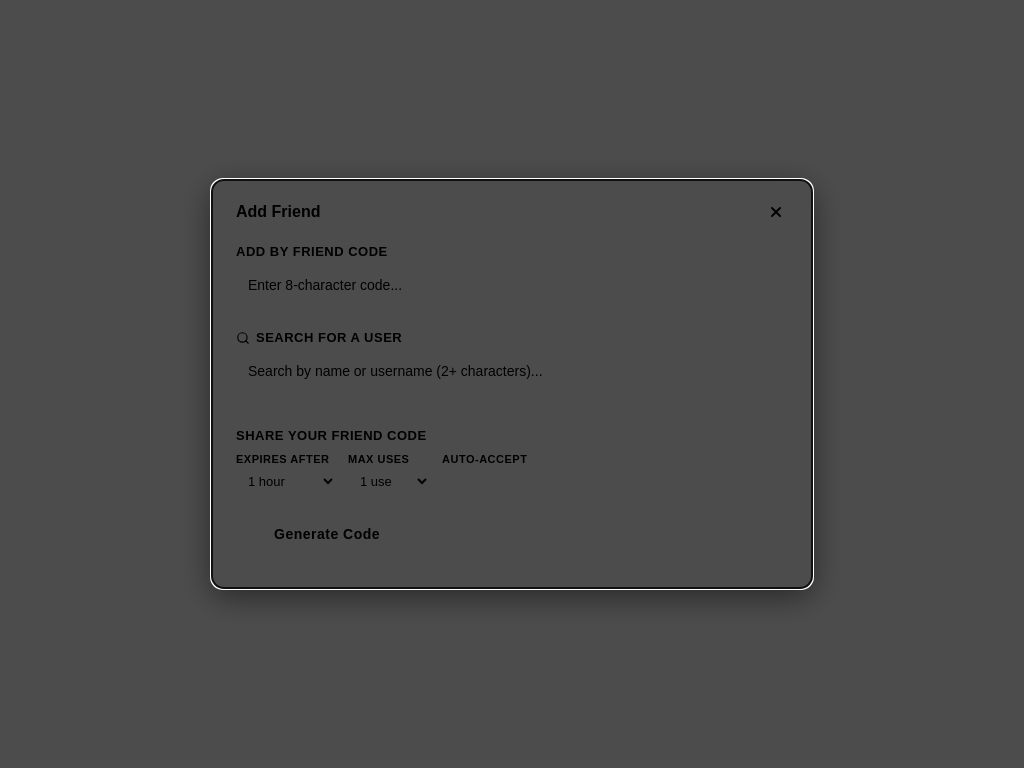
Test: AddFriendModal › shows error for expired code
Type "EXPIRED8" into the field with placeholder "Enter 8-character code..." at (512, 285), box [236,269,788,301]
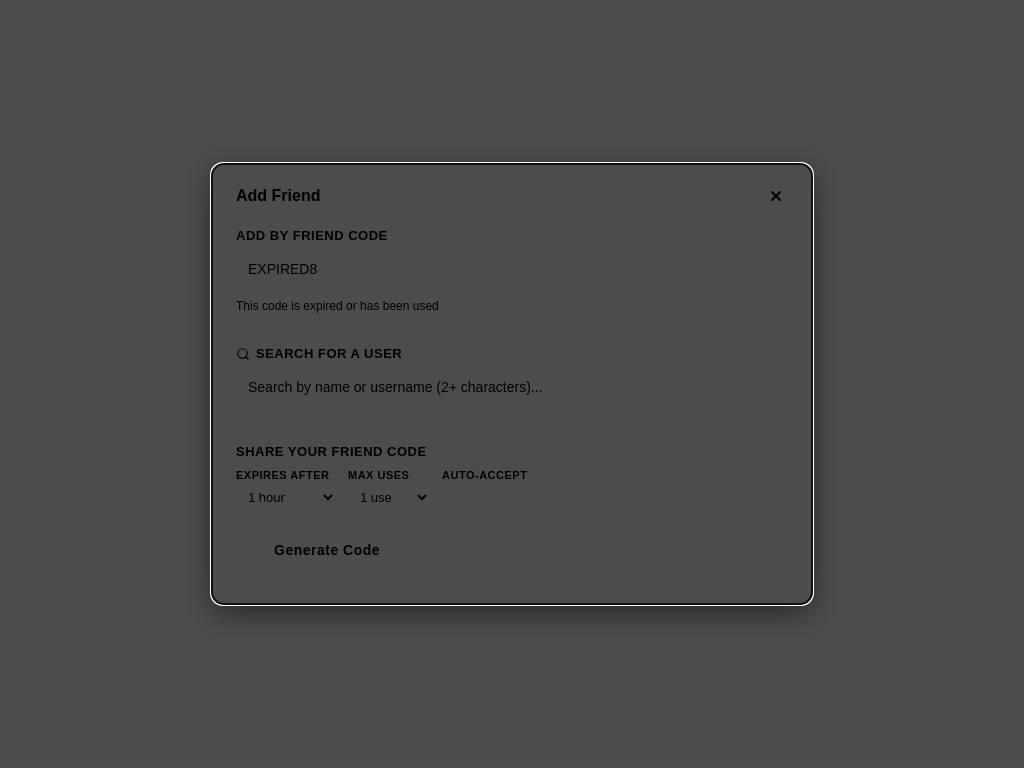
Result: the text "This code is expired or has been used" is shown at [236,299,439,313]
